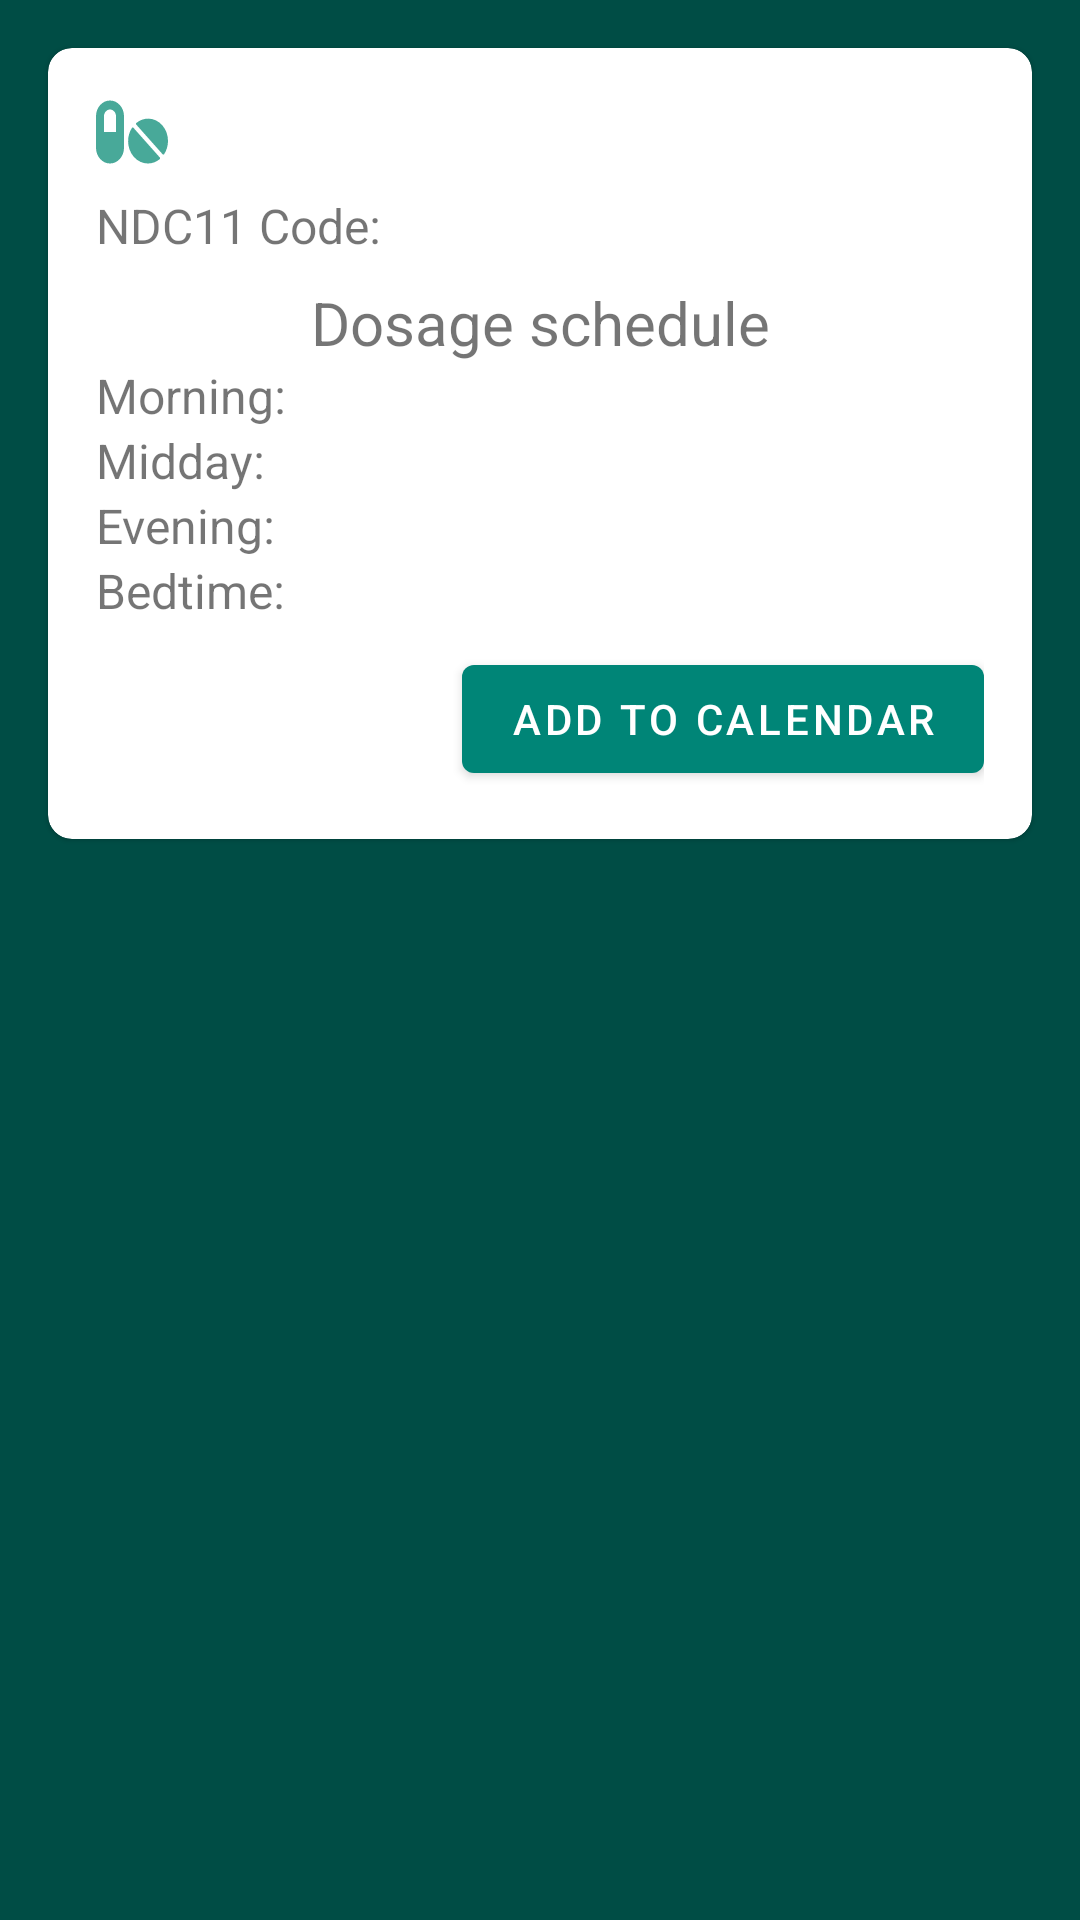

Screen size 1080 x 1920. Icon name, then its center in pixels as (x=x, y=y):
pills: (x=132, y=132)
